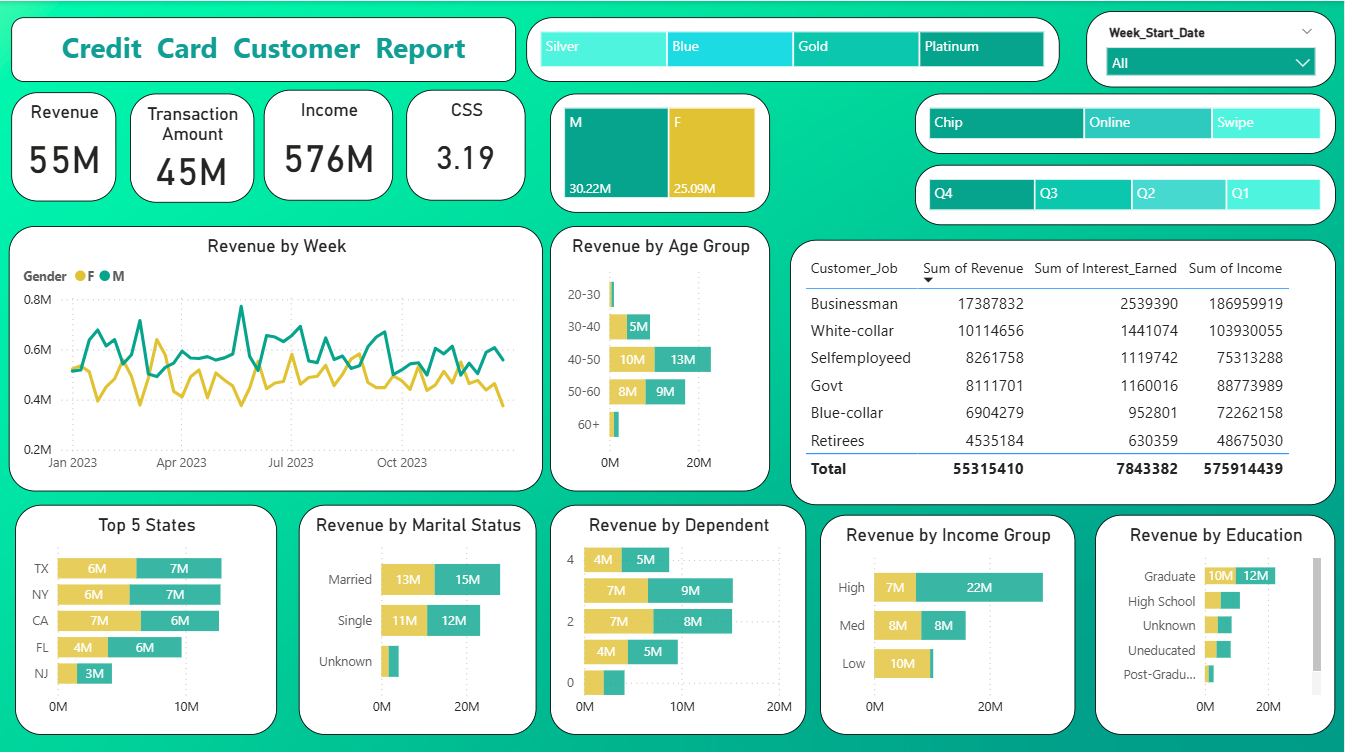

What the dashboard file says about the page in this screenshot:
{"tool":"powerbi","page":{"name":"Customer_report","canvas":[1280,720],"ordinal":2},"visuals":[{"type":"textbox","box":[10.7,15.5,481,61.9],"z":0},{"type":"barChart","title":"Revenue by Marital Status","fields":{"Y":["Sum(credit_card.Revenue)"],"Category":["customer.Marital_Status"],"Series":["customer.Gender"]},"box":[284,480.3,226.4,219.6],"z":1000},{"type":"tableEx","fields":{"Values":["customer.Customer_Job","Sum(credit_card.Revenue)","Sum(credit_card.Interest_Earned)","Sum(customer.Income)"]},"box":[752,227.8,520.1,252.5],"z":2000},{"type":"card","title":"Revenue","fields":{"Values":["Sum(credit_card.Revenue)"]},"box":[11,86.4,100.2,104.3],"z":3000},{"type":"card","title":"Transaction Amount","fields":{"Values":["Sum(credit_card.Total_Trans_Amt)"]},"box":[123.5,87.8,118,104.3],"z":4000},{"type":"card","title":"Income","fields":{"Values":["Sum(customer.Income)"]},"box":[251.1,85.1,123.5,105.7],"z":5000},{"type":"card","title":"CSS","fields":{"Values":["Avg(customer.Cust_Satisfaction_Score)"]},"box":[387,85.1,113.9,105.7],"z":6000},{"type":"slicer","fields":{"Values":["credit_card.Week_Start_Date"]},"box":[1034.7,9.6,237.4,72.7],"z":7000},{"type":"treemap","fields":{"Group":["credit_card.Qtr"],"Values":["Avg(credit_card.Client_Num)"]},"box":[871.4,156.4,400.7,57.6],"z":8000},{"type":"treemap","fields":{"Group":["credit_card.Card_Category"],"Values":["Avg(credit_card.Client_Num)"]},"box":[500.9,15.1,507.7,61.7],"z":9000},{"type":"treemap","fields":{"Group":["customer.Gender"],"Values":["Sum(credit_card.Revenue)"]},"box":[524.2,87.8,209.9,113.9],"z":10000},{"type":"barChart","title":"Revenue by Income Group","fields":{"Y":["Sum(credit_card.Revenue)"],"Category":["customer.IncomeGroup"],"Series":["customer.Gender"]},"box":[780.8,489.9,242.9,209.9],"z":11000},{"type":"barChart","title":"Revenue by Dependent","fields":{"Y":["Sum(credit_card.Revenue)"],"Category":["customer.Dependent_Count"],"Series":["customer.Gender"]},"box":[524.2,480.3,244.3,219.6],"z":12000},{"type":"barChart","title":"Revenue by Education","fields":{"Y":["Sum(credit_card.Revenue)"],"Category":["customer.Education_Level"],"Series":["customer.Gender"]},"box":[1042.9,489.9,229.2,209.9],"z":13000},{"type":"barChart","title":"Top 5 States","fields":{"Y":["Sum(credit_card.Revenue)"],"Category":["customer.state_cd"],"Series":["customer.Gender"]},"box":[13.7,480.3,249.7,219.6],"z":14000},{"type":"barChart","title":"Revenue by Age Group","fields":{"Y":["Sum(credit_card.Revenue)"],"Category":["customer.AgeGroup"],"Series":["customer.Gender"]},"box":[524.2,214.1,209.9,252.5],"z":15000},{"type":"lineChart","title":"Revenue by Week","fields":{"Y":["Sum(credit_card.Revenue)"],"Series":["customer.Gender"],"Category":["credit_card.Week_Start_Date.Variation.Date Hierarchy.Year","credit_card.Week_Start_Date.Variation.Date Hierarchy.Quarter","credit_card.Week_Start_Date.Variation.Date Hierarchy.Month","credit_card.Week_Start_Date.Variation.Date Hierarchy.Day"]},"box":[8.2,214.1,509.1,252.5],"z":16000},{"type":"treemap","fields":{"Group":["credit_card.Use Chip"],"Values":["Avg(credit_card.Revenue)"]},"box":[871.4,87.8,400.7,57.6],"z":17000}]}

Visuals, with their boxes in screenshot pixels (x1, y1, x2, y2), scaled from the page's 1280x720 canvas onto the 1345x752 screenshot:
textbox: x1=11, y1=16, x2=517, y2=81
"Revenue by Marital Status" barChart: x1=298, y1=502, x2=536, y2=731
tableEx - customer.Customer_Job x Sum(credit_card.Revenue): x1=790, y1=238, x2=1337, y2=502
"Revenue" card: x1=12, y1=90, x2=117, y2=199
"Transaction Amount" card: x1=130, y1=92, x2=254, y2=201
"Income" card: x1=264, y1=89, x2=394, y2=199
"CSS" card: x1=407, y1=89, x2=526, y2=199
slicer - credit_card.Week_Start_Date: x1=1087, y1=10, x2=1337, y2=86
treemap - credit_card.Qtr x Avg(credit_card.Client_Num): x1=916, y1=163, x2=1337, y2=224
treemap - credit_card.Card_Category x Avg(credit_card.Client_Num): x1=526, y1=16, x2=1060, y2=80
treemap - customer.Gender x Sum(credit_card.Revenue): x1=551, y1=92, x2=771, y2=211
"Revenue by Income Group" barChart: x1=820, y1=512, x2=1076, y2=731
"Revenue by Dependent" barChart: x1=551, y1=502, x2=808, y2=731
"Revenue by Education" barChart: x1=1096, y1=512, x2=1337, y2=731
"Top 5 States" barChart: x1=14, y1=502, x2=277, y2=731
"Revenue by Age Group" barChart: x1=551, y1=224, x2=771, y2=487
"Revenue by Week" lineChart: x1=9, y1=224, x2=544, y2=487
treemap - credit_card.Use Chip x Avg(credit_card.Revenue): x1=916, y1=92, x2=1337, y2=152
